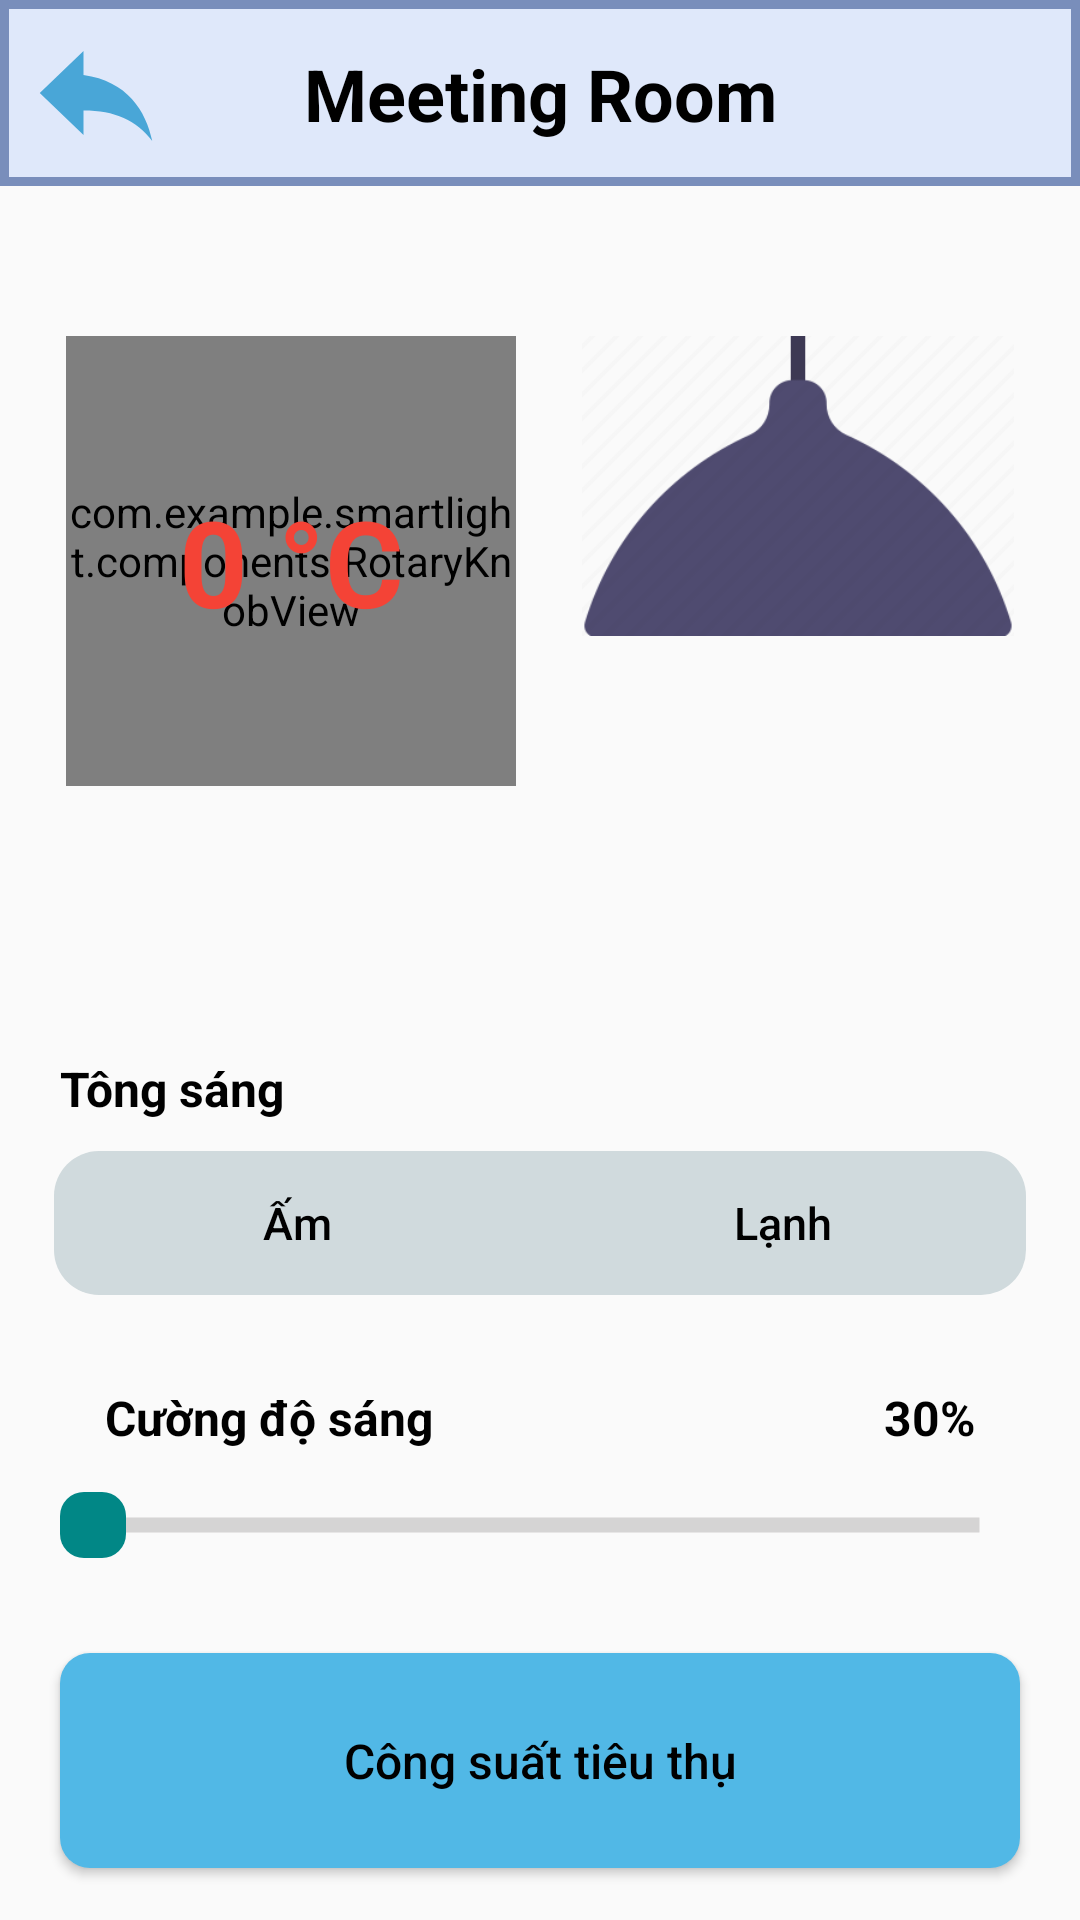

Where icons sit on this 1080x1920 app screen, as (x1, y1, x2, y2):
back: (40, 51, 152, 141)
